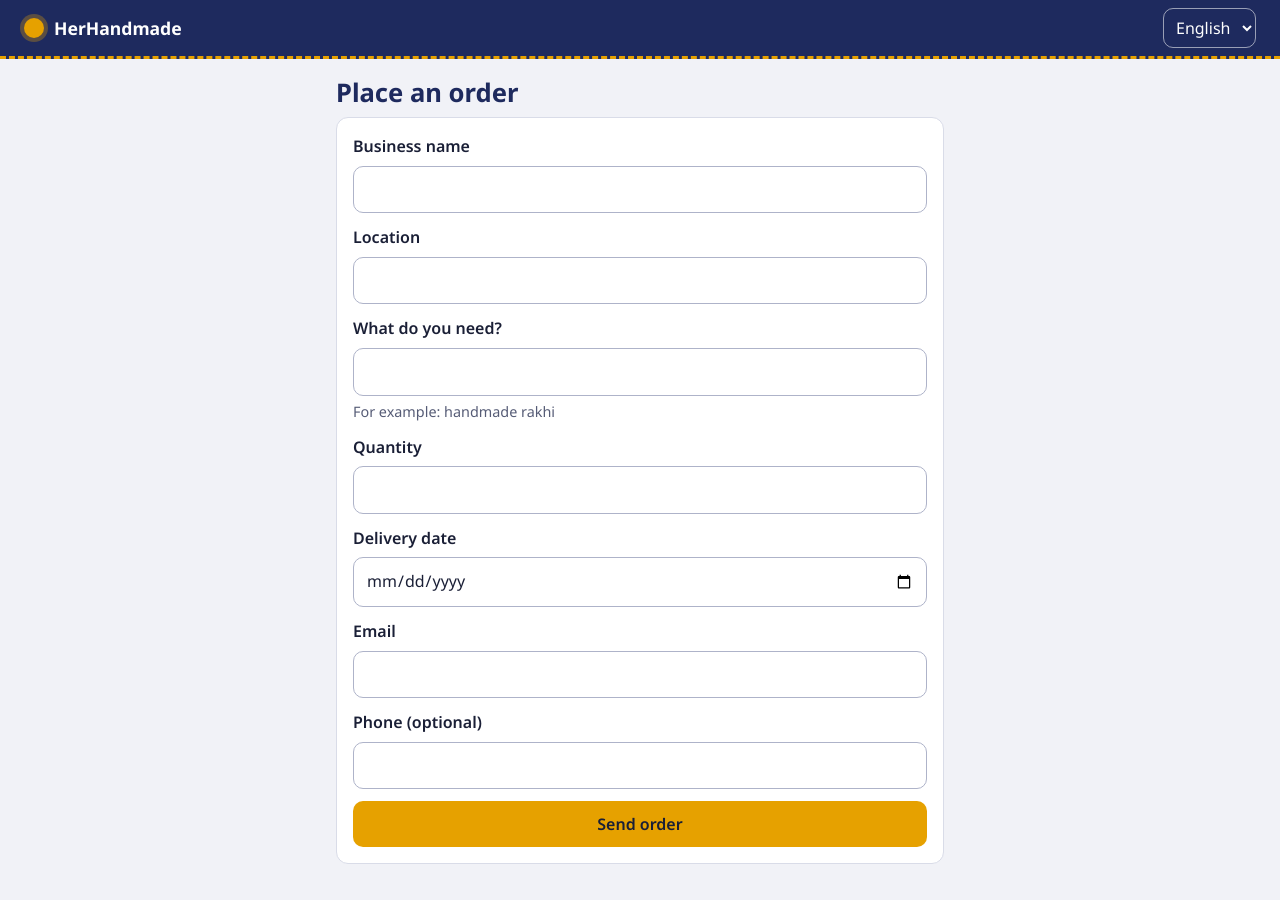
Test: a valid order is sent as numbers and shows the reference
Type "Bloom & Co" into the field labelled "Business name".
click(640, 189); type("Bloom & Co")  # box [353,166,927,213]
Type "Bengaluru" into the field labelled "Location".
click(640, 281); type("Bengaluru")  # box [353,257,927,304]
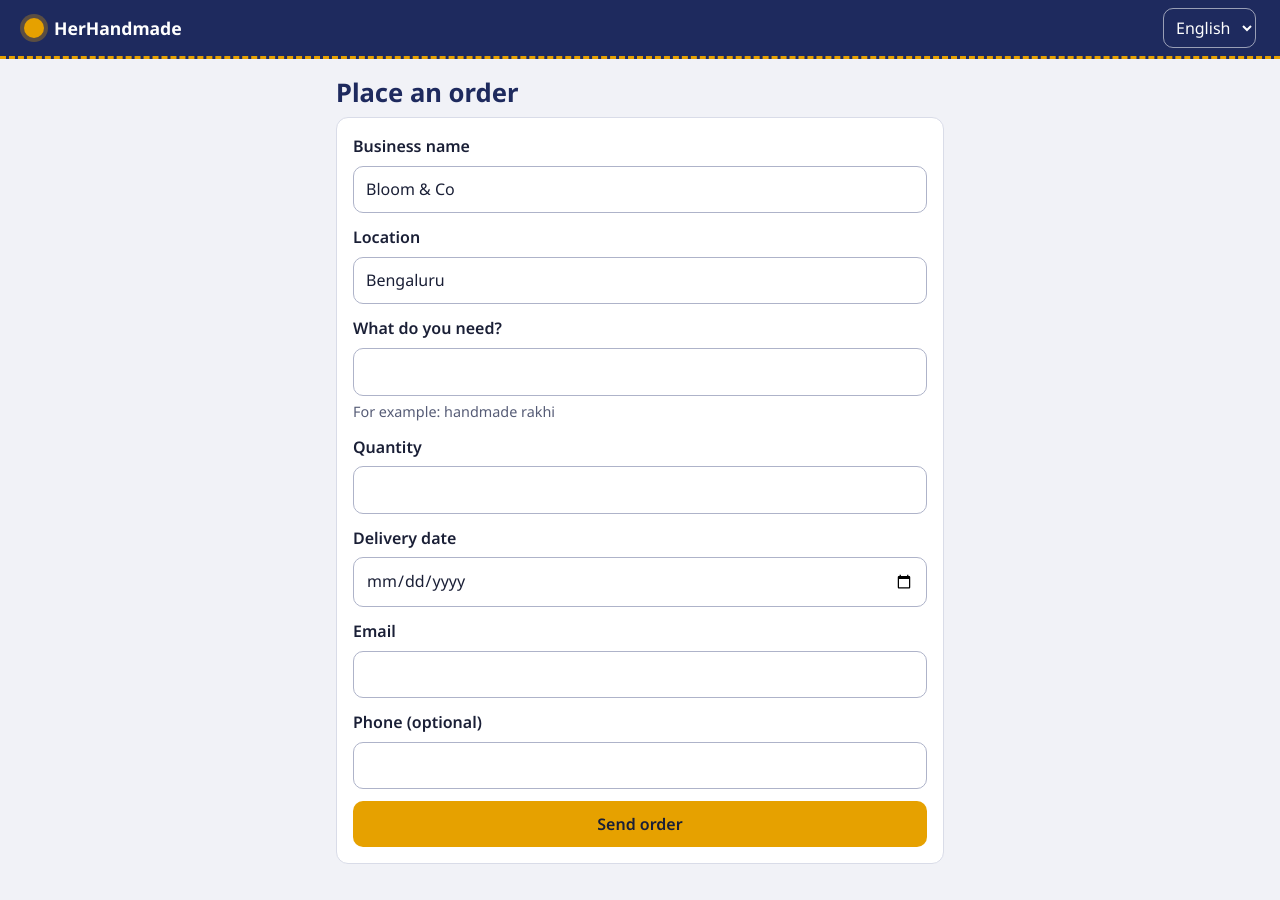
Type "Handmade rakhi" into the field labelled "What do you need?".
click(640, 372); type("Handmade rakhi")  # box [353,348,927,396]
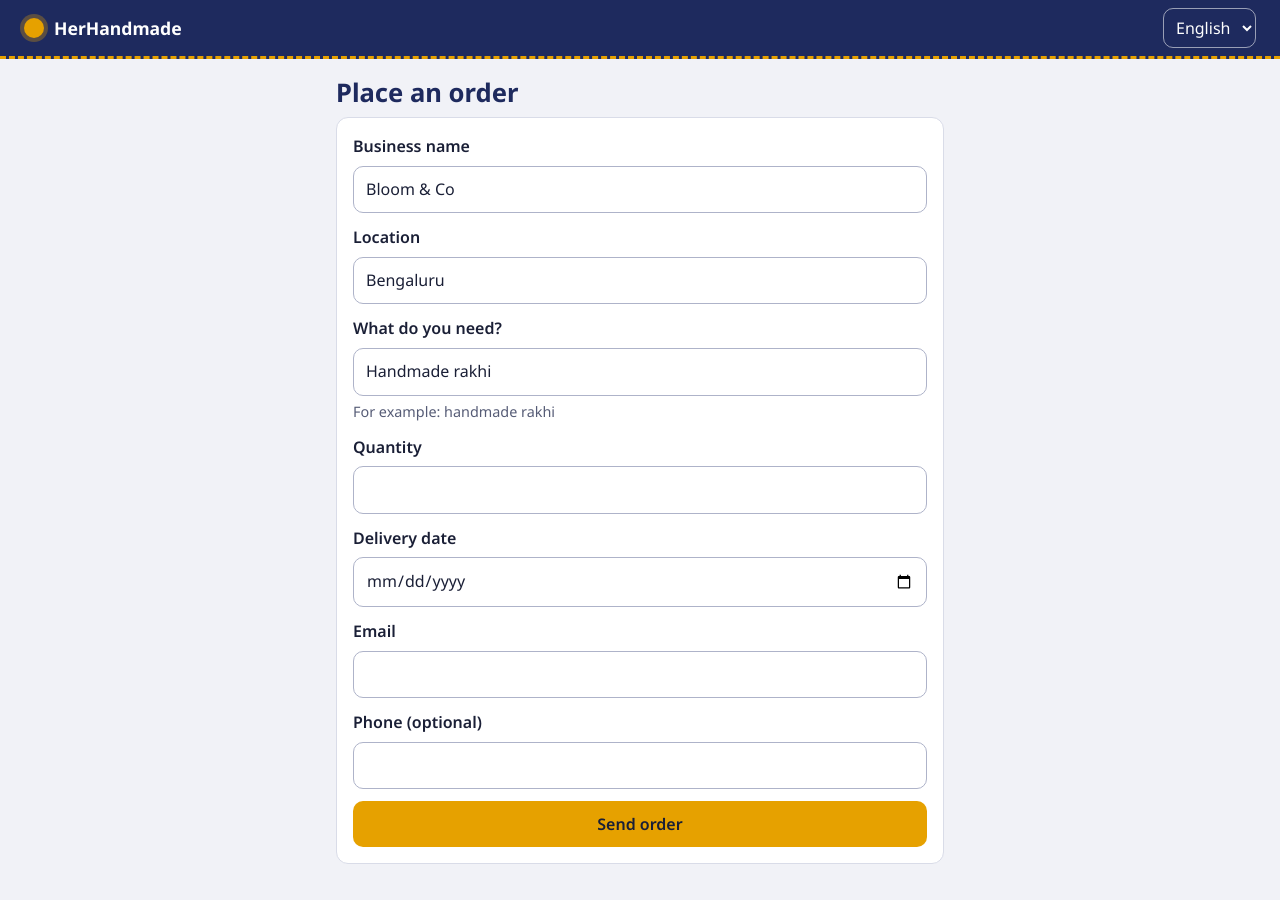
Type "500" into the number field labelled "Quantity".
click(640, 490); type("500")  # box [353,466,927,514]
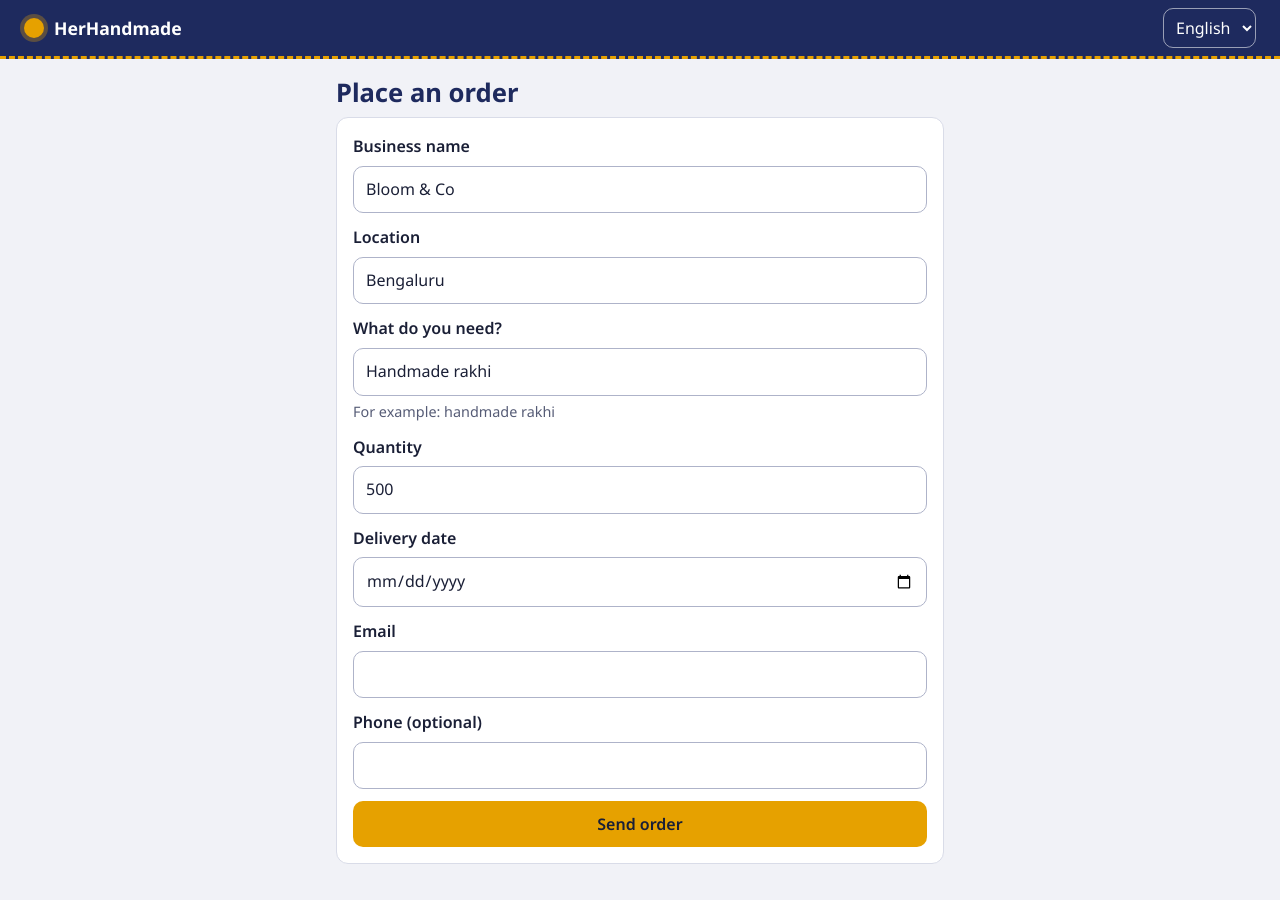
Type "2099-01-01" into the date field labelled "Delivery date".
click(640, 582); type("2099-01-01")  # box [353,557,927,607]
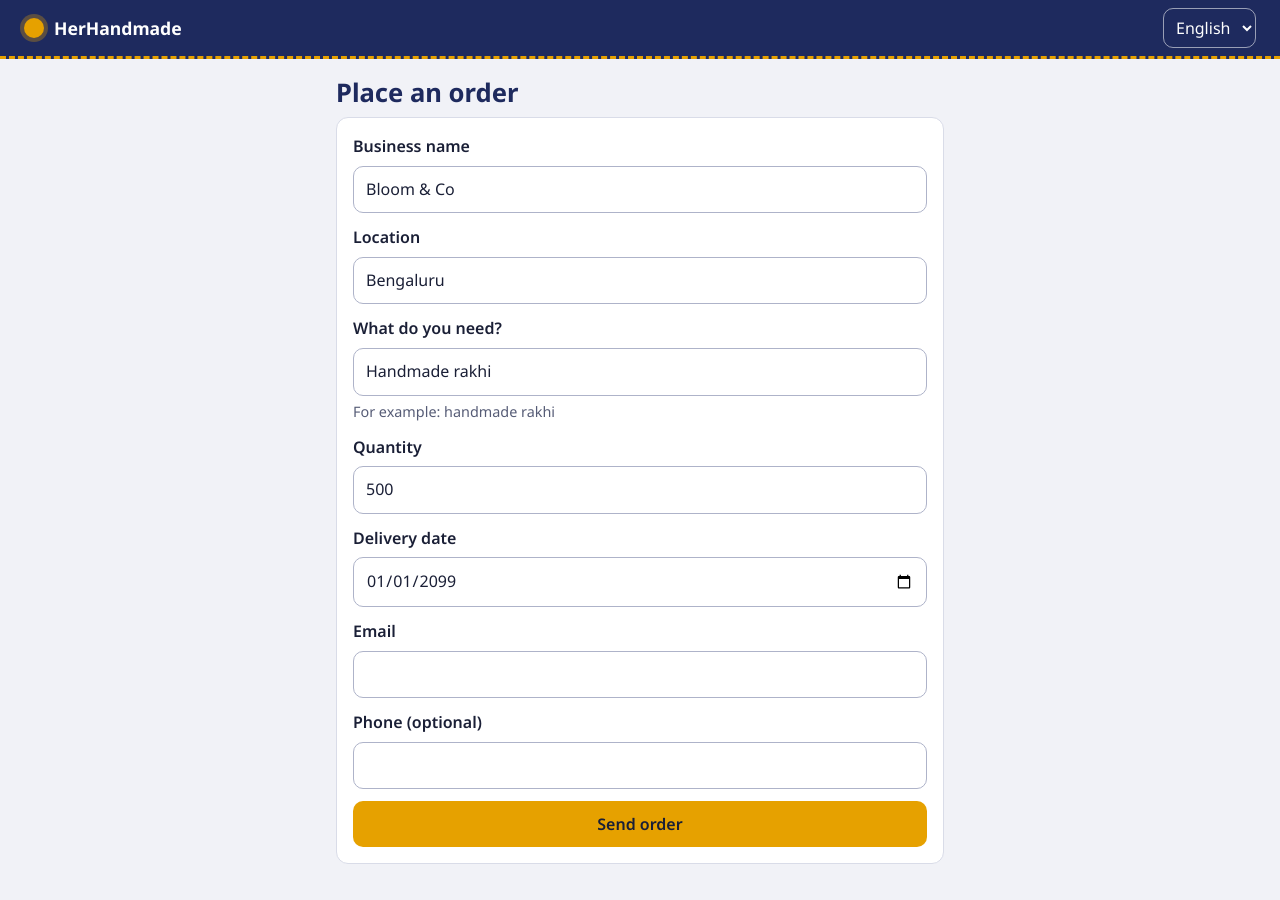
Type "orders@bloomco.example" into the field labelled "Email".
click(640, 674); type("orders@bloomco.example")  # box [353,651,927,698]
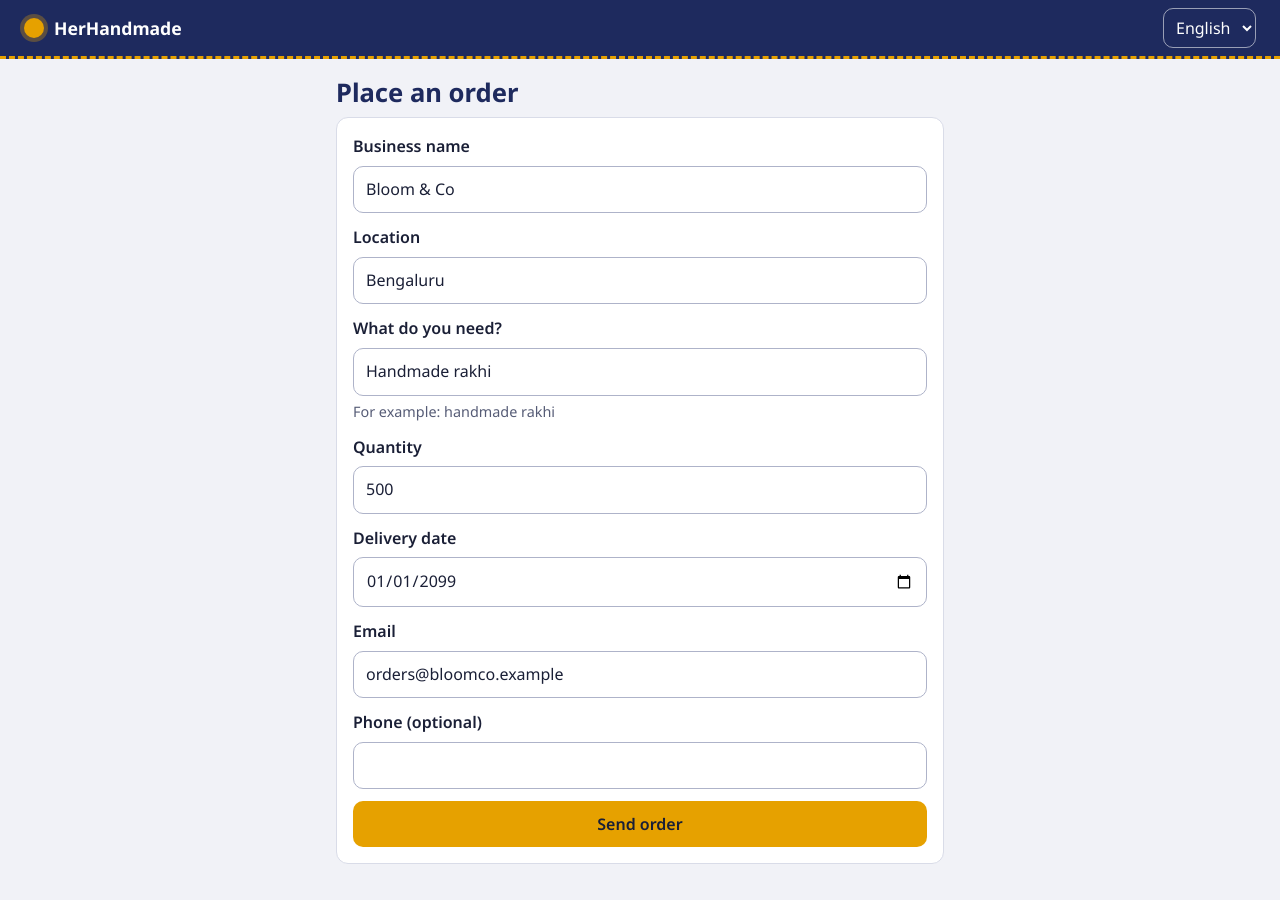
Click the button "Send order".
click(640, 824)  # box [353,801,927,847]
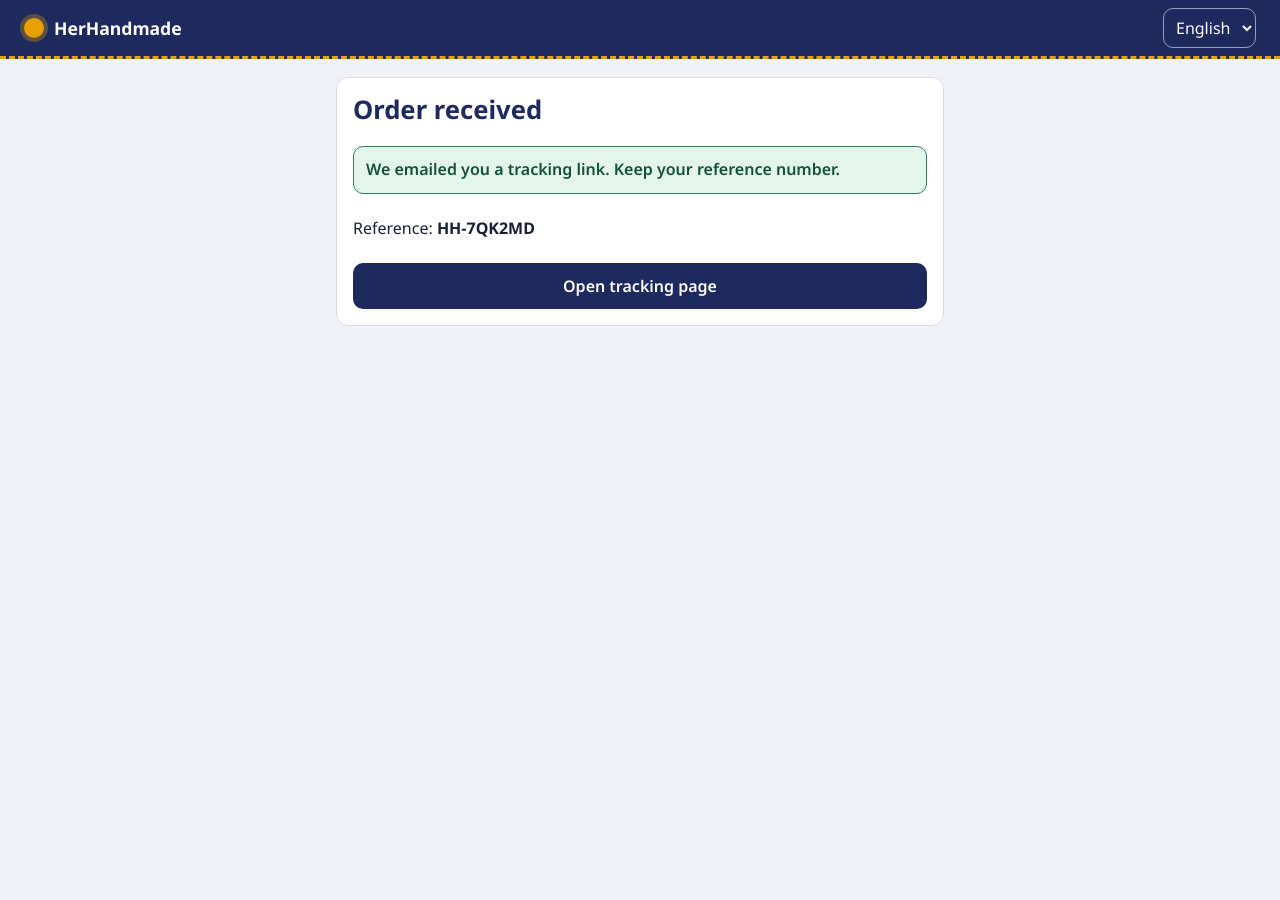
Expected: the text "HH-7QK2MD" is shown, [437,217,535,239]
